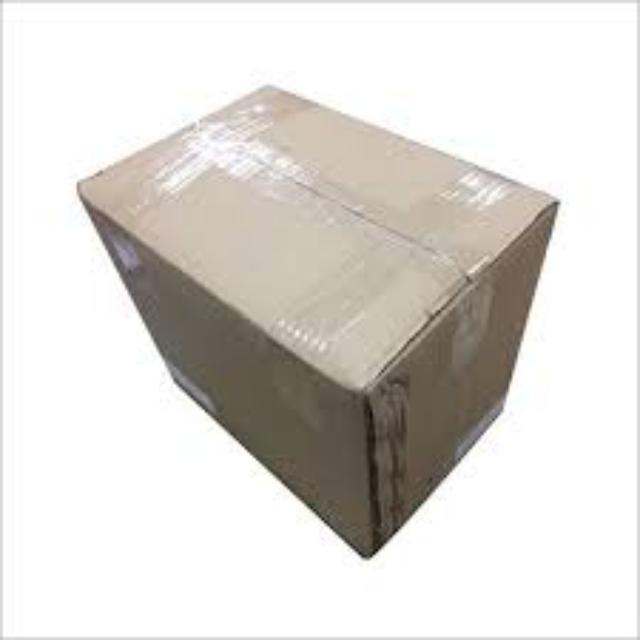cardboard paper: (77, 85, 552, 549)
